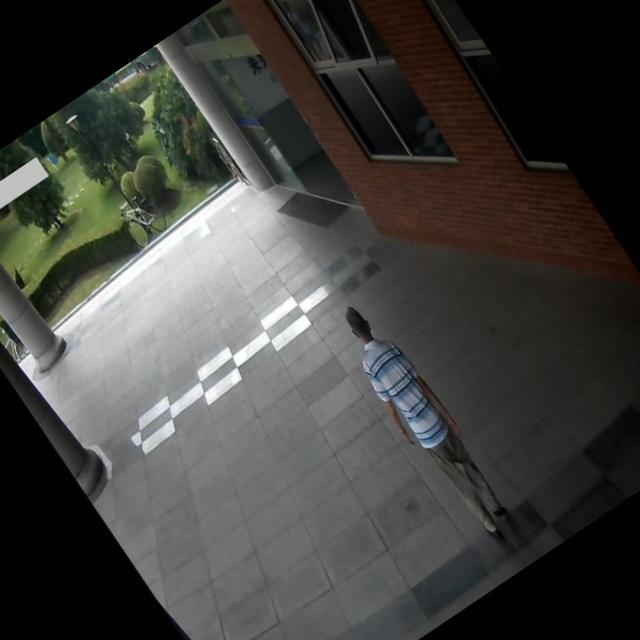person: (324, 291, 526, 554)
